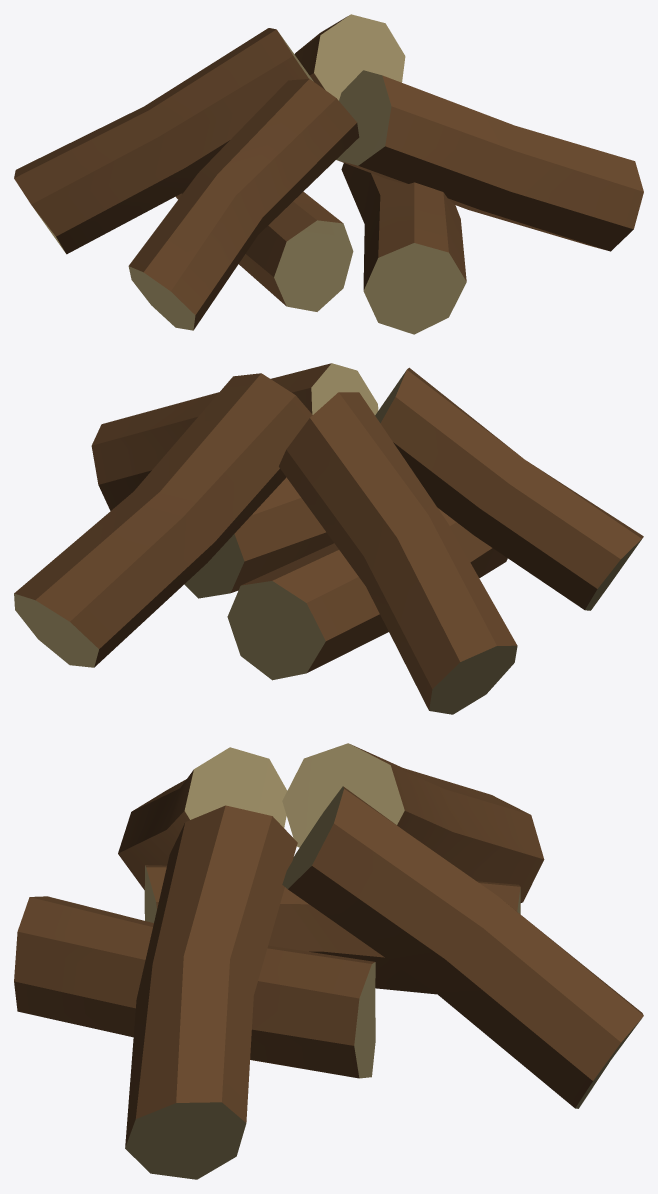
The model's file is alex_bonfire.glb.
3 views of the same model, one above another, from view 1: azimuth 30°, elevation 25°; view 2: azimuth 150°, elevation 25°; view 3: azimuth 270°, elevation 25° (orthographic). The views are drawn at different scales.
Visible parts, largest first — view 1: Bonfire; view 2: Bonfire; view 3: Bonfire.
Part boxes in pixels (x1,y1,x2,y2): Bonfire: [14, 14, 643, 334]; Bonfire: [14, 363, 643, 714]; Bonfire: [14, 743, 643, 1179].
Bounding box in the file's own units: 0.2503 × 0.1122 × 0.2238.
